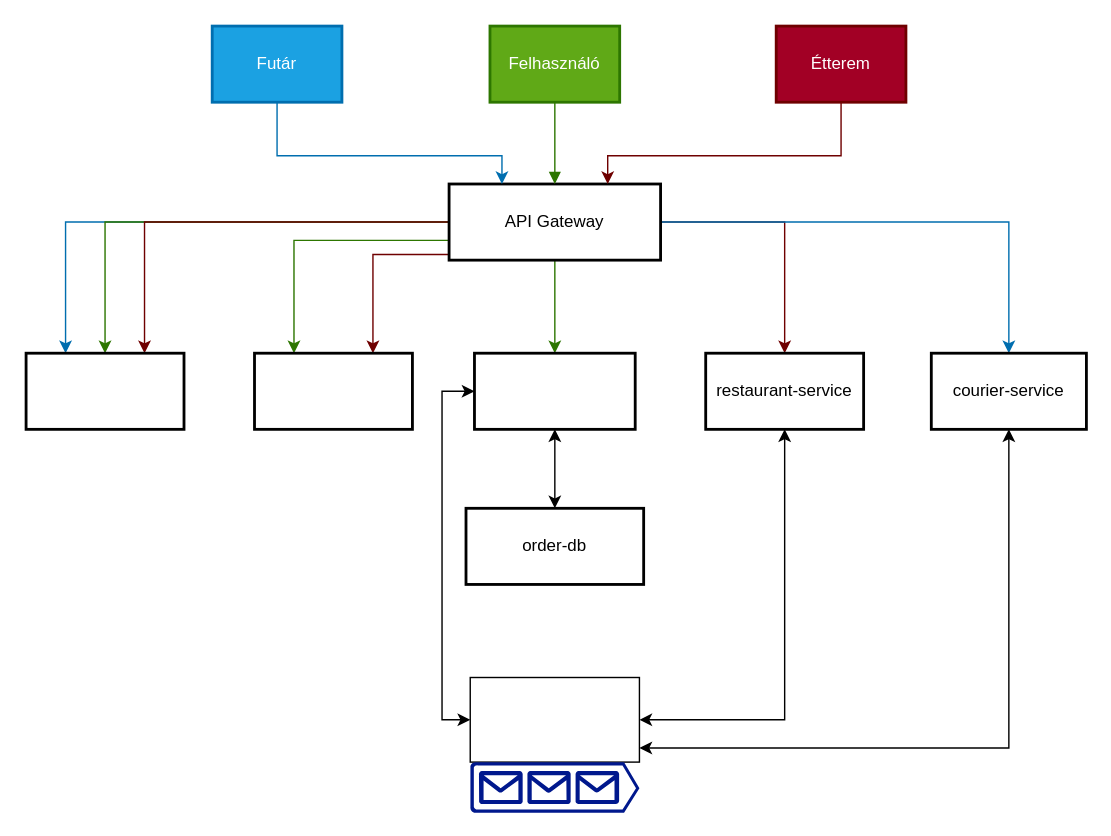
Some shapes in this 1111 by 836 pixel diagram are drawn without their labels. The shapes that lost their labels are listed below. From the top down, each one's centre as x and y in pixels, then its label:
At [104,390]: "web-ui".
At [332,390]: "menu-service".
At [554,390]: "order-service".
At [554,719]: "message-qeuue".
